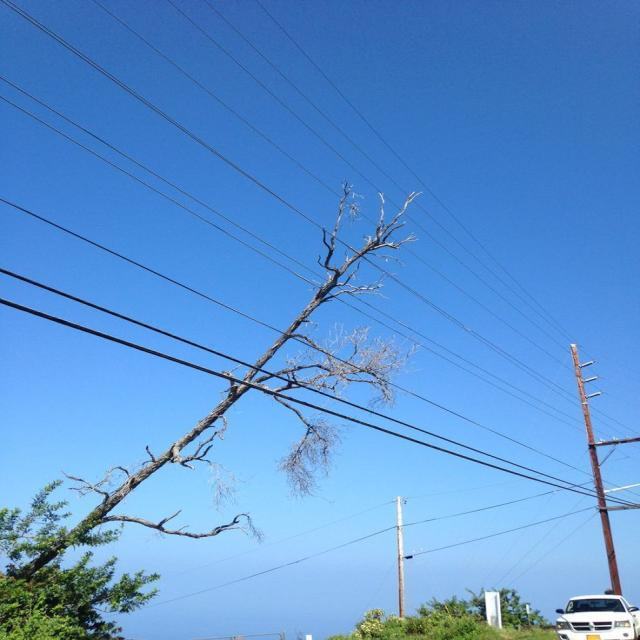critical vegetation: (160, 142, 531, 511)
